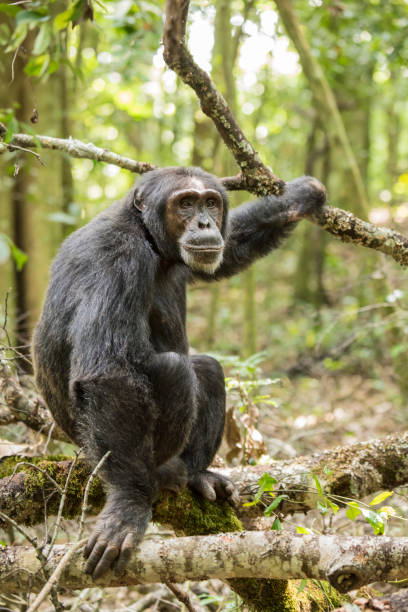chimpanzee: (128, 151, 262, 289)
